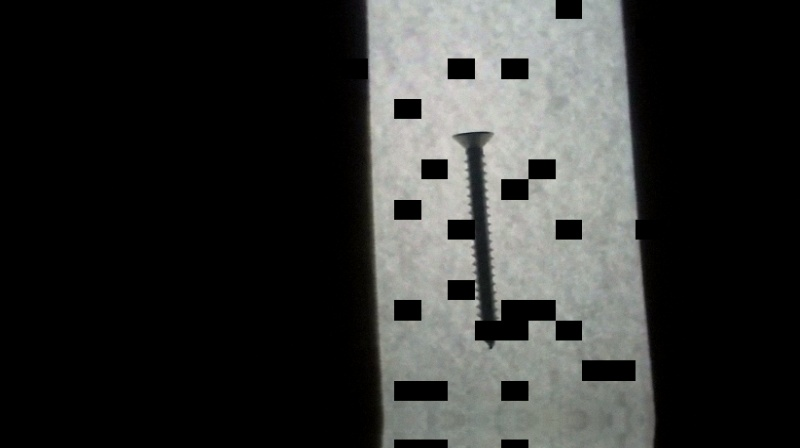S002: (448, 127, 502, 352)
